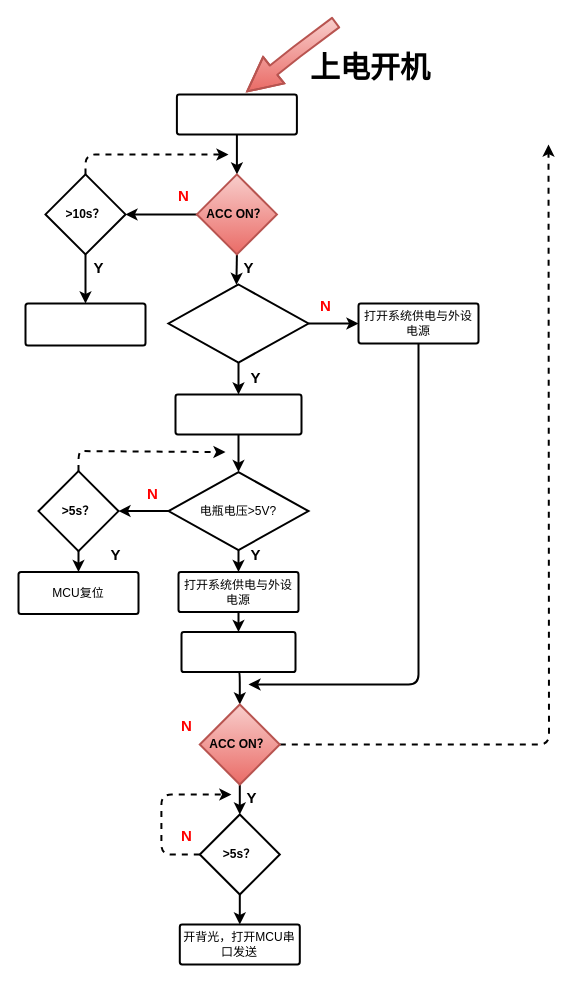
Image size: 575x983. Some labels were removed from this diagram. The box of each missing label's shape, as (x1, y1, x2, y2) in pixels:
MCU初始化: (175, 93, 297, 135)
关闭所有电源: (24, 302, 146, 346)
延时100ms: (180, 631, 296, 673)
断开电源1000ms: (174, 393, 302, 435)
是否是上电启动？: (167, 283, 309, 363)
